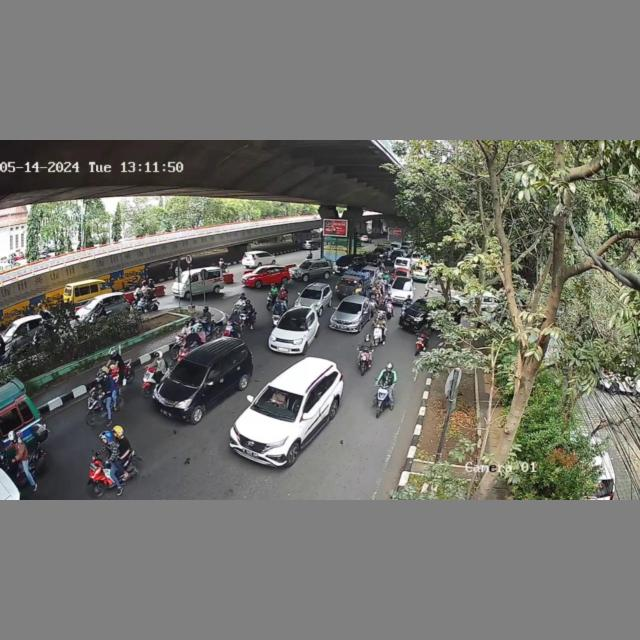windshield: (253, 387, 304, 422), (166, 359, 211, 384), (278, 314, 310, 334)
